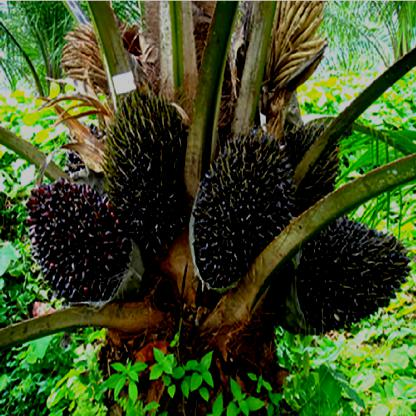1: (24, 174, 130, 310)
palm-oil: (278, 216, 414, 335), (192, 135, 294, 288), (106, 87, 194, 252), (289, 116, 345, 201)
